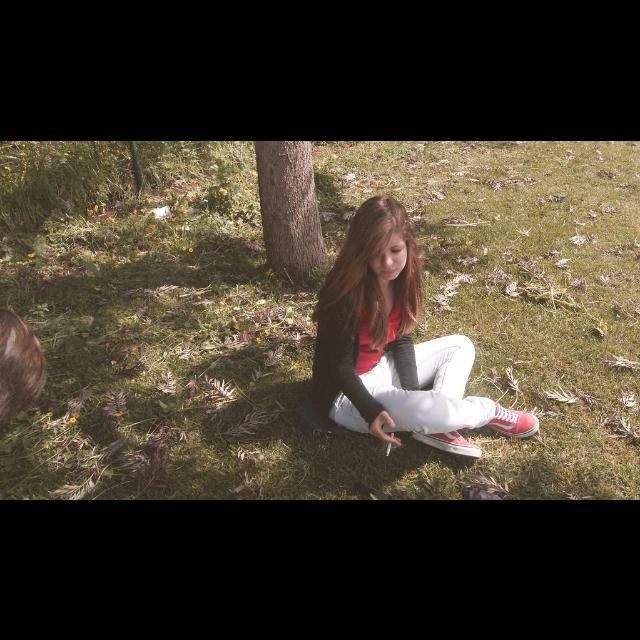rokok: (385, 432, 397, 458)
